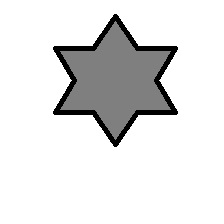star: (52, 13, 178, 147)
